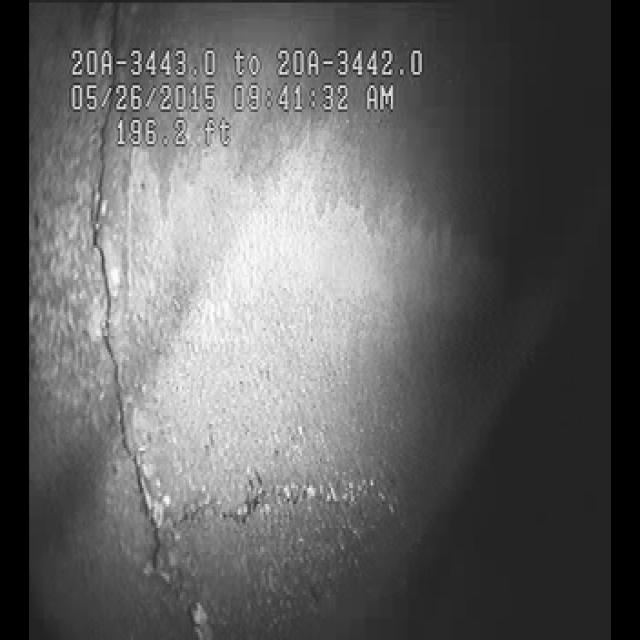Crack: (74, 313, 318, 615)
